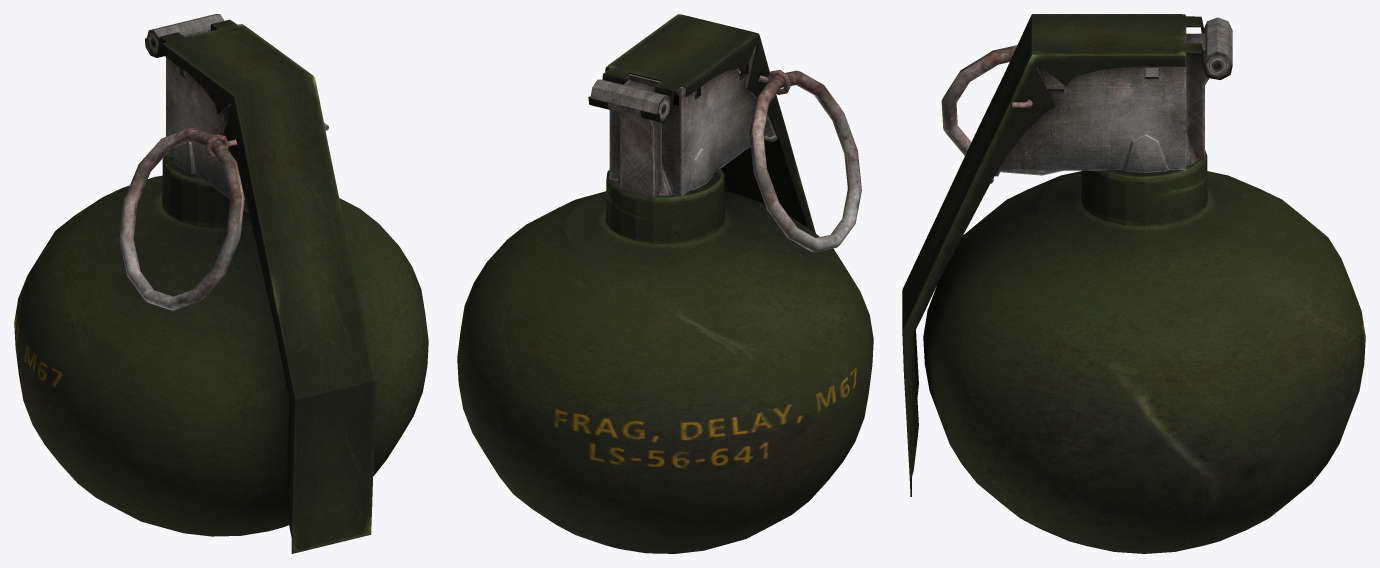
The model's file is Frag Grenade.FBX.
3 renders of one model, left to right at view 1: azimuth 30°, elevation 25°; view 2: azimuth 150°, elevation 25°; view 3: azimuth 270°, elevation 25°, orthographic. The views are drawn at different scales.
Parts seen in each view (by area): view 1: Body, Handle, Pin, Head, polySurface51; view 2: Body, Head, Handle, Pin, polySurface51; view 3: Body, Handle, Head, Pin, polySurface51.
Part boxes in pixels (<box>): Body: <box>14,153,428,536</box>; Handle: <box>145,19,375,553</box>; Pin: <box>119,127,244,310</box>; Head: <box>166,29,248,212</box>; polySurface51: <box>147,14,224,55</box>; Body: <box>457,168,873,553</box>; Head: <box>609,46,777,198</box>; Handle: <box>588,14,815,233</box>; Pin: <box>749,70,861,252</box>; polySurface51: <box>590,79,670,121</box>; Body: <box>923,150,1365,553</box>; Handle: <box>902,14,1232,496</box>; Head: <box>990,27,1209,183</box>; Pin: <box>941,45,1063,175</box>; polySurface51: <box>1203,17,1232,77</box>.
Bounding box in the file's own units: 3.98 × 4.85 × 4.17.
1 material, 1 textured.
